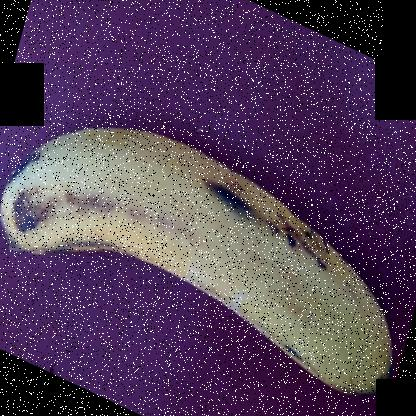ripe: (1, 116, 402, 413)
